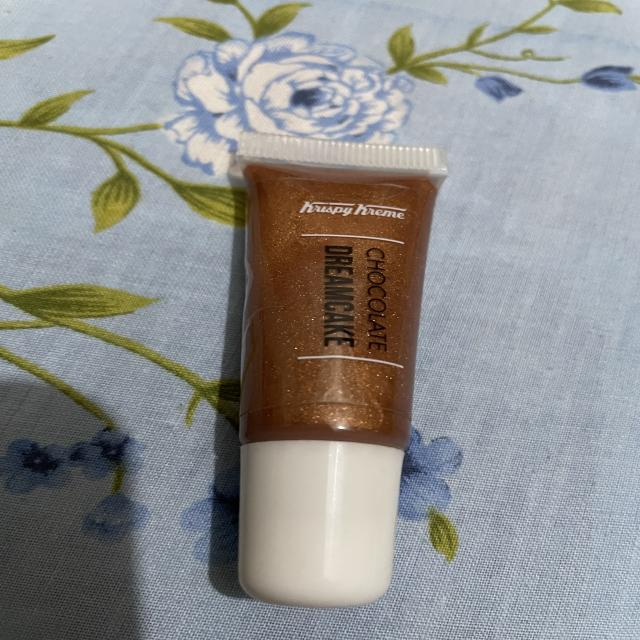lip balm: (217, 104, 456, 619)
